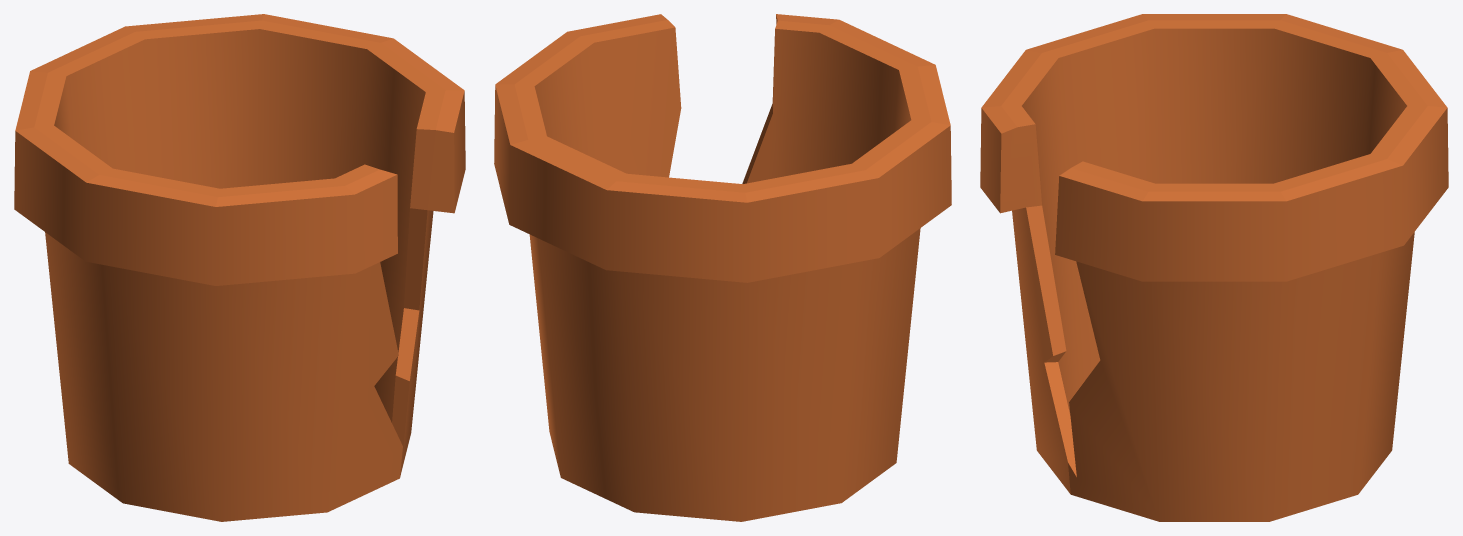
File: FlowerPot.fbx
3 views of the same model, side by side, from view 1: azimuth 30°, elevation 25°; view 2: azimuth 150°, elevation 25°; view 3: azimuth 270°, elevation 25° (orthographic).
Visible parts, largest first — view 1: Cylinder.006; view 2: Cylinder.006; view 3: Cylinder.006.
Boxes of the visible parts, x1,y1,x2,y2 form: Cylinder.006: (14, 14, 465, 521); Cylinder.006: (494, 14, 951, 521); Cylinder.006: (980, 14, 1448, 521).
Size of the model in its own units: 1.53 by 1.3 by 1.61.
